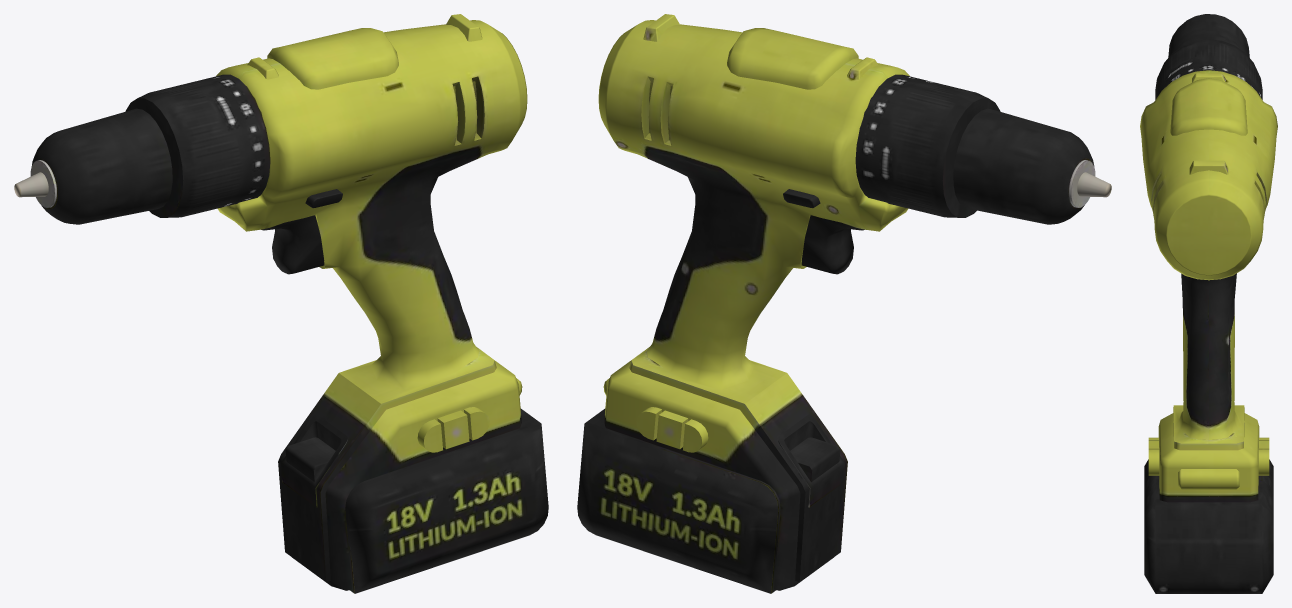
The model's file is Drill_01.glb.
3 views of the same model, side by side, from view 1: azimuth 30°, elevation 25°; view 2: azimuth 150°, elevation 25°; view 3: azimuth 270°, elevation 25° (orthographic). The views are drawn at different scales.
Visible parts, largest first — view 1: Drill_01; view 2: Drill_01; view 3: Drill_01.
Boxes of the visible parts, x1,y1,x2,y2 form: Drill_01: [14, 14, 548, 593]; Drill_01: [577, 14, 1111, 593]; Drill_01: [1140, 14, 1277, 593].
Size of the model in its own units: 0.1829 by 0.1851 by 0.0524.
Materials: 1 (1 with a texture image).
